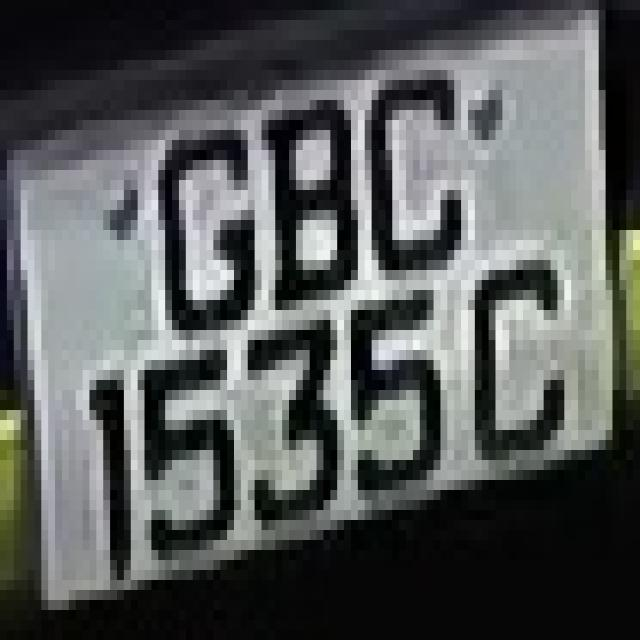1: (76, 320, 151, 590)
3: (234, 290, 344, 530)
5: (130, 310, 262, 550), (351, 250, 447, 490)
B: (241, 50, 365, 310)
C: (337, 30, 468, 300), (454, 230, 578, 480)
G: (144, 100, 262, 370)
